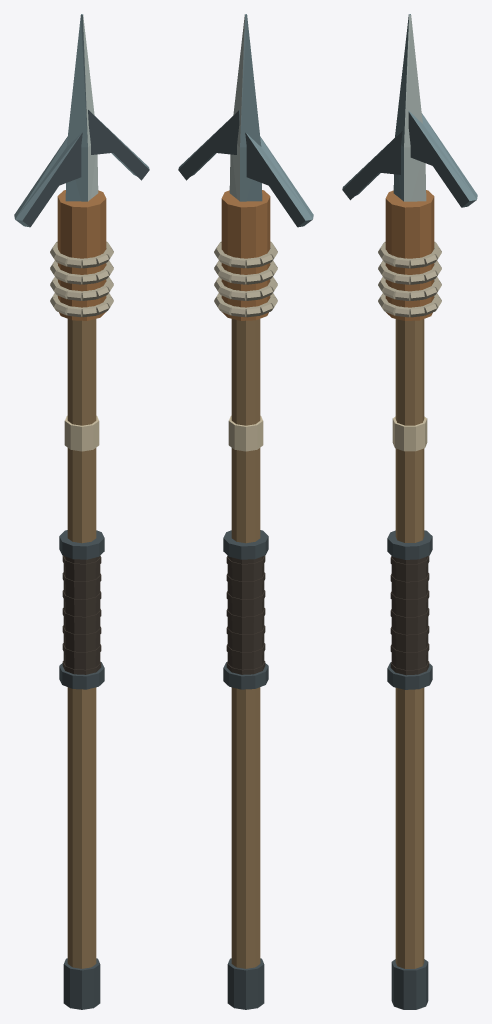
Rendered from SWW_TidecatchHarpoon.fbx.
3 renders of one model, left to right at view 1: azimuth 30°, elevation 25°; view 2: azimuth 150°, elevation 25°; view 3: azimuth 330°, elevation 25°, orthographic.
Parts seen in each view (by area): view 1: SWW_TidecatchHarpoon; view 2: SWW_TidecatchHarpoon; view 3: SWW_TidecatchHarpoon.
Part boxes in pixels (<box>): SWW_TidecatchHarpoon: <box>14,14,149,1009</box>; SWW_TidecatchHarpoon: <box>178,14,313,1009</box>; SWW_TidecatchHarpoon: <box>342,14,477,1009</box>.
Size of the model in its own units: 0.284 by 2 by 0.1174.
